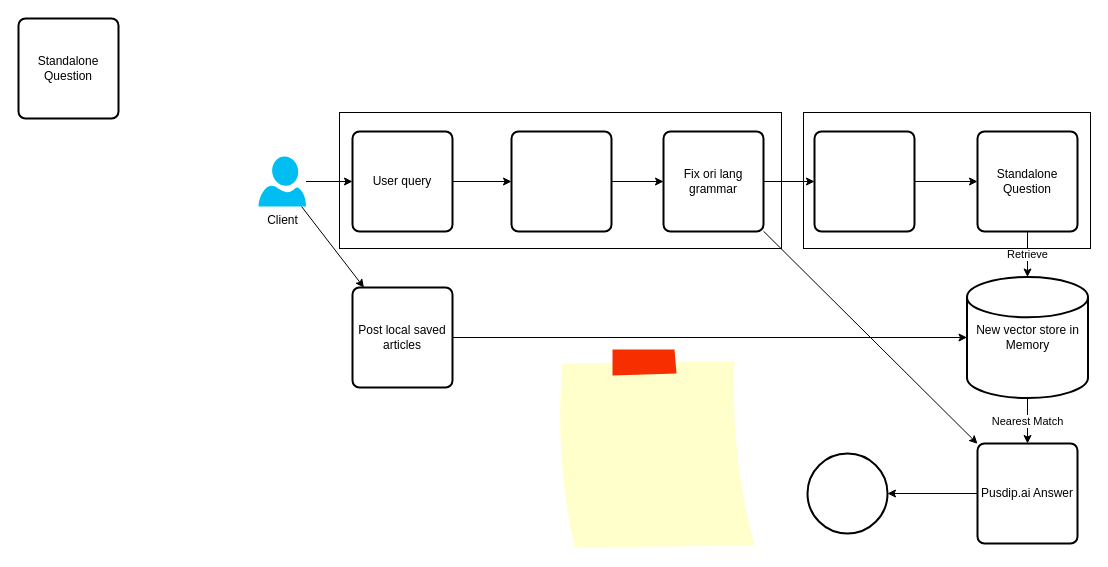
Some shapes in this 1108 by 567 pixel diagram are drawn without their labels. Here are the shapes that lost their labels. From the top down, the centre of each, then its label:
point (561, 181): Fix ori lang spelling
point (864, 181): Translate to eng
point (656, 449): Add chat memory
point (847, 493): Send answer
